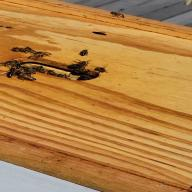Bee: (8, 42, 58, 63), (106, 10, 130, 20)
